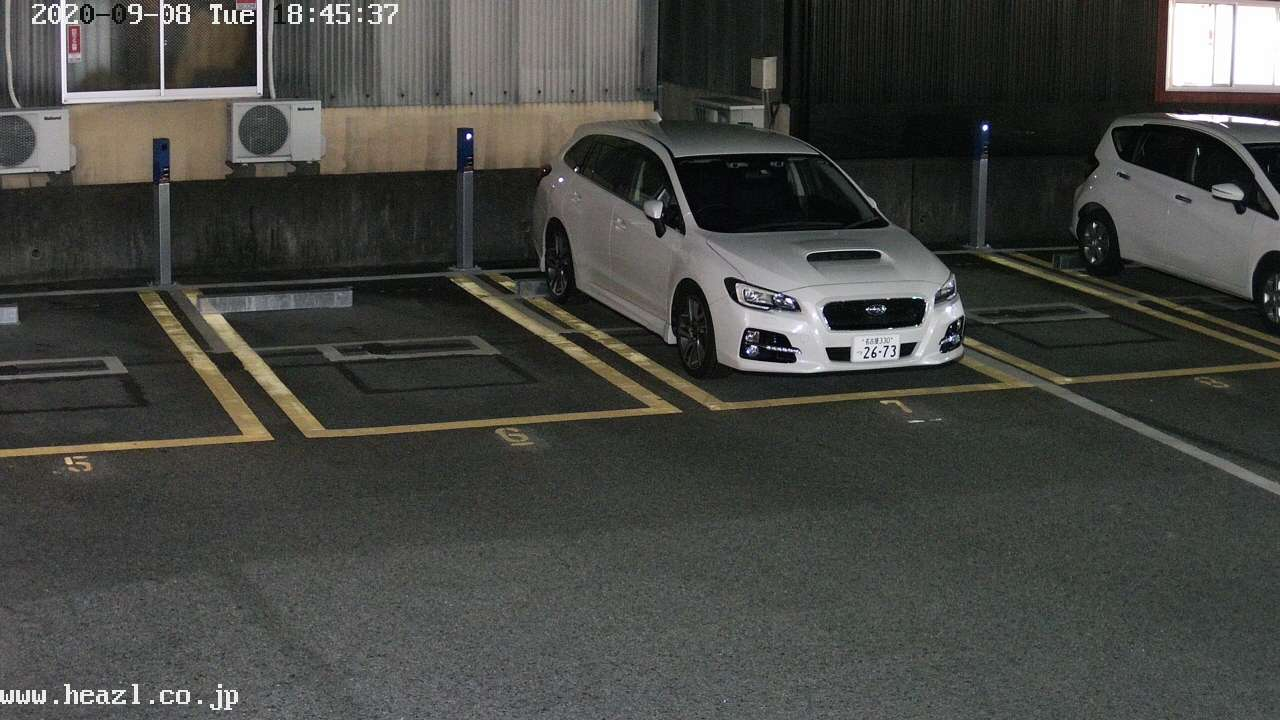number_plate: (854, 332, 903, 362)
